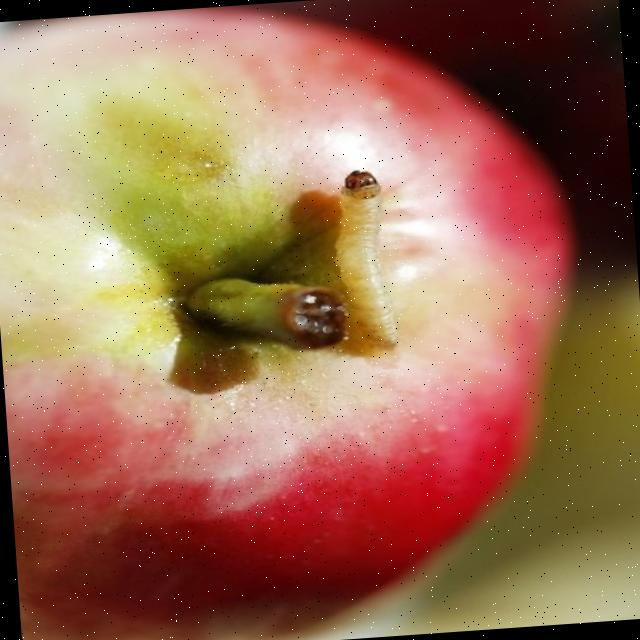worm: (320, 154, 436, 355)
